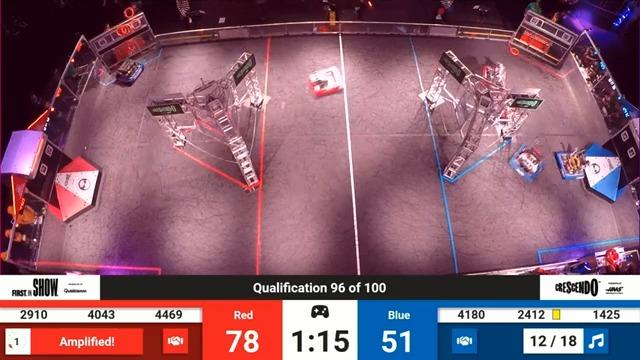robot: (505, 144, 549, 180), (554, 145, 593, 184), (308, 63, 350, 98), (107, 58, 149, 89), (492, 93, 526, 128), (482, 56, 519, 82)
